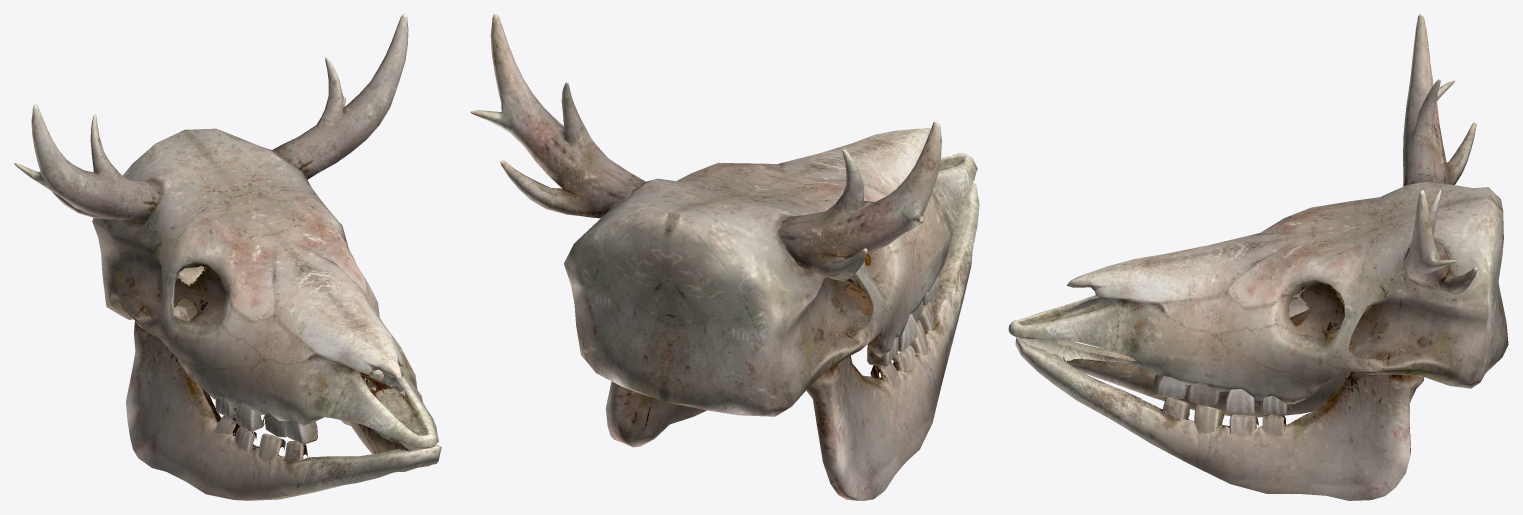
3 renders of one model, left to right at view 1: azimuth 30°, elevation 25°; view 2: azimuth 150°, elevation 25°; view 3: azimuth 270°, elevation 25°, orthographic. The views are drawn at different scales.
Parts seen in each view (by area): view 1: SM_Lougrims_Shrine_Skull_01_LOD0; view 2: SM_Lougrims_Shrine_Skull_01_LOD0; view 3: SM_Lougrims_Shrine_Skull_01_LOD0.
Boxes of the visible parts, box(x1,y1,x2,y2) form: SM_Lougrims_Shrine_Skull_01_LOD0: box(14, 14, 441, 500); SM_Lougrims_Shrine_Skull_01_LOD0: box(470, 14, 979, 500); SM_Lougrims_Shrine_Skull_01_LOD0: box(1008, 14, 1508, 500).
Size of the model in its own units: 0.8987 by 0.817 by 1.05.
Materials: 1 (1 with a texture image).
